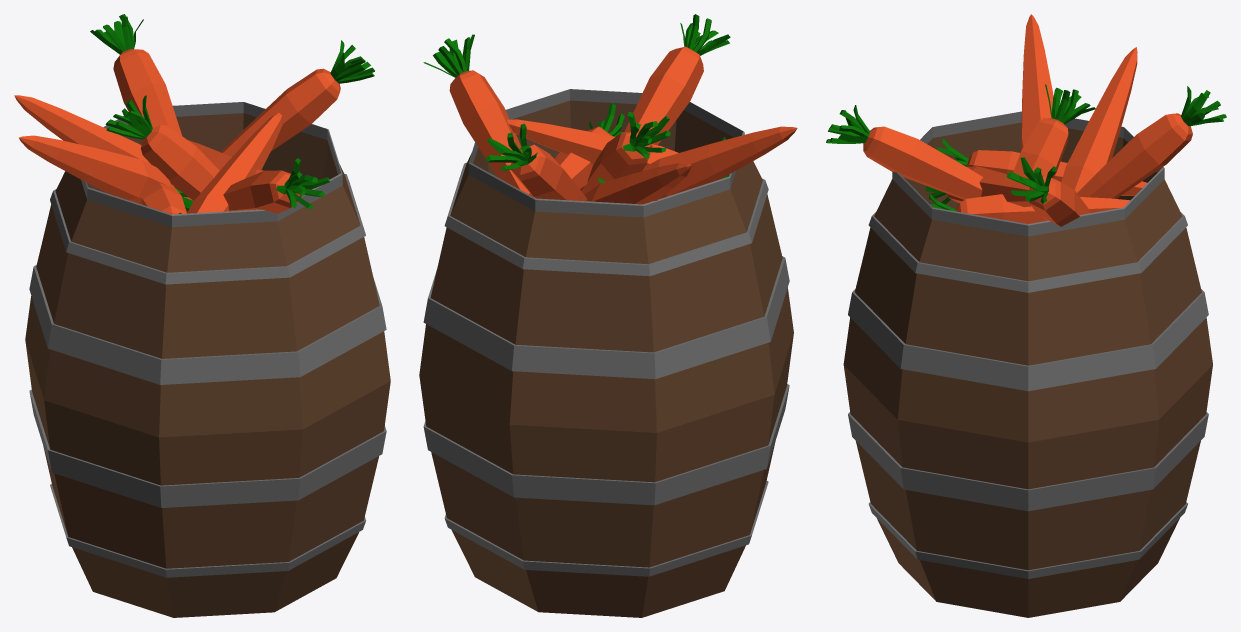
File: Barrel.fbx
3 renders of one model, left to right at view 1: azimuth 30°, elevation 25°; view 2: azimuth 150°, elevation 25°; view 3: azimuth 270°, elevation 25°, orthographic. The views are drawn at different scales.
Visible parts, largest first — view 1: Cylinder.007; view 2: Cylinder.007; view 3: Cylinder.007.
Part boxes in pixels (left/top/right/bottom): Cylinder.007: left=14, top=14, right=390, bottom=617; Cylinder.007: left=419, top=14, right=797, bottom=617; Cylinder.007: left=826, top=14, right=1226, bottom=617.
Size of the model in its own units: 231 by 300 by 229.
